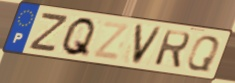Q: (59, 15, 98, 59), (184, 35, 222, 74)
R: (152, 28, 192, 70)
V: (130, 22, 165, 67)
Z: (26, 12, 72, 54), (90, 20, 132, 63)
